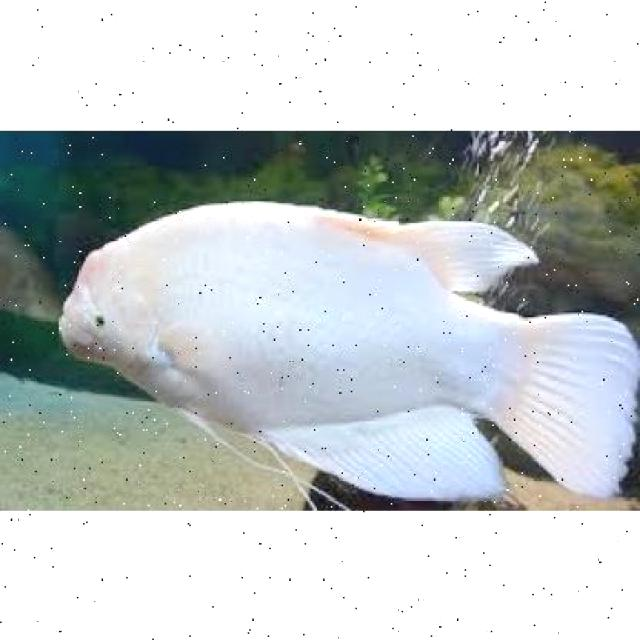gurame: (58, 197, 640, 508)
